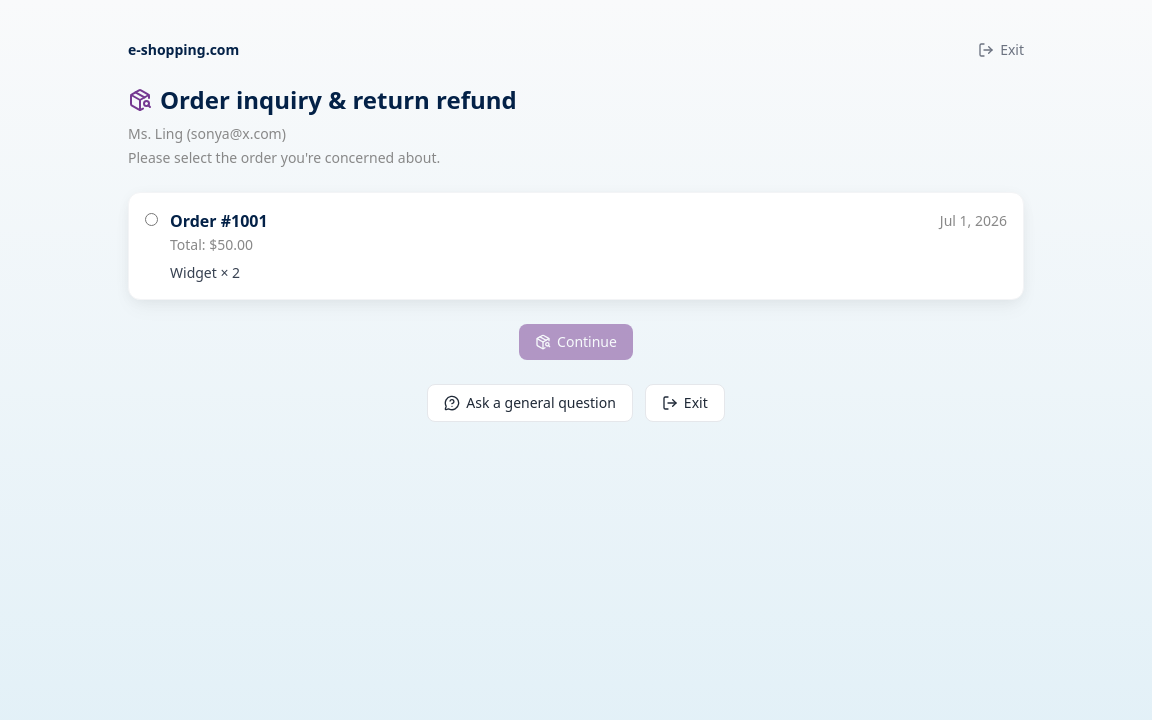
OrderInquiryPage › the order's refund request card (CSA-23) › shows no card and keeps the exchange/return button when the order has no request
Check: the text "Order #1001" is shown, box [170, 209, 268, 233]
Click the radio button at (152, 220), box [145, 213, 158, 226]
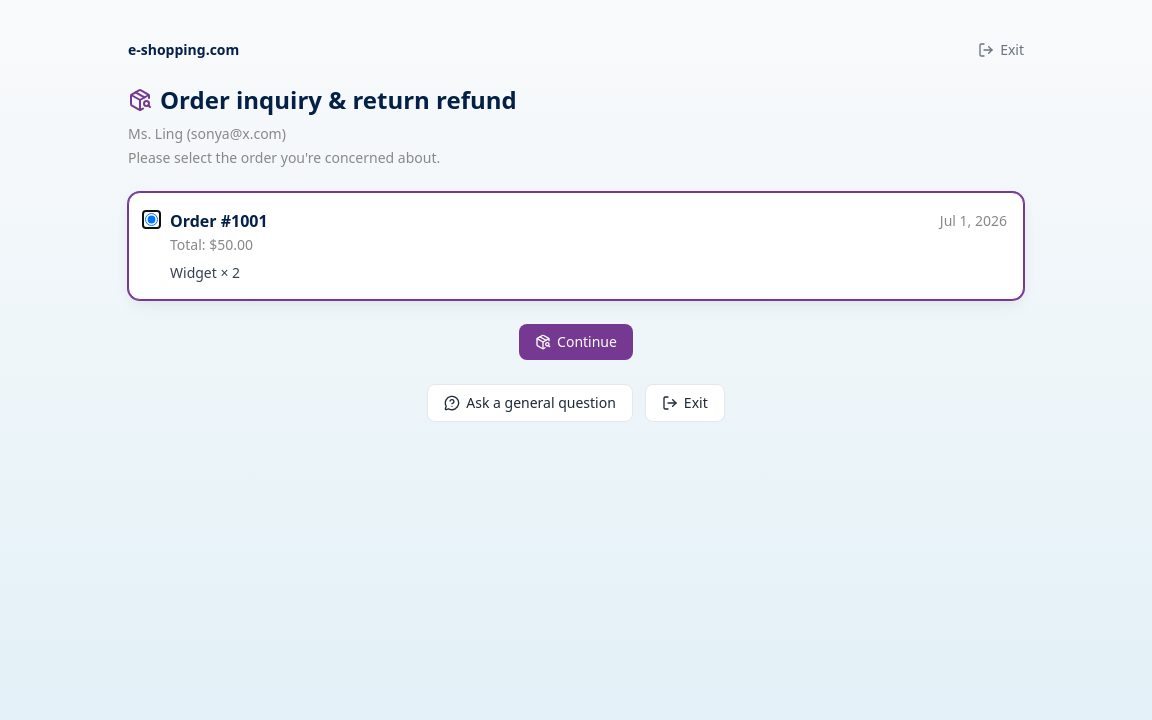
Click the button "Continue" at (576, 342), box [519, 324, 633, 360]
(page scrolled)
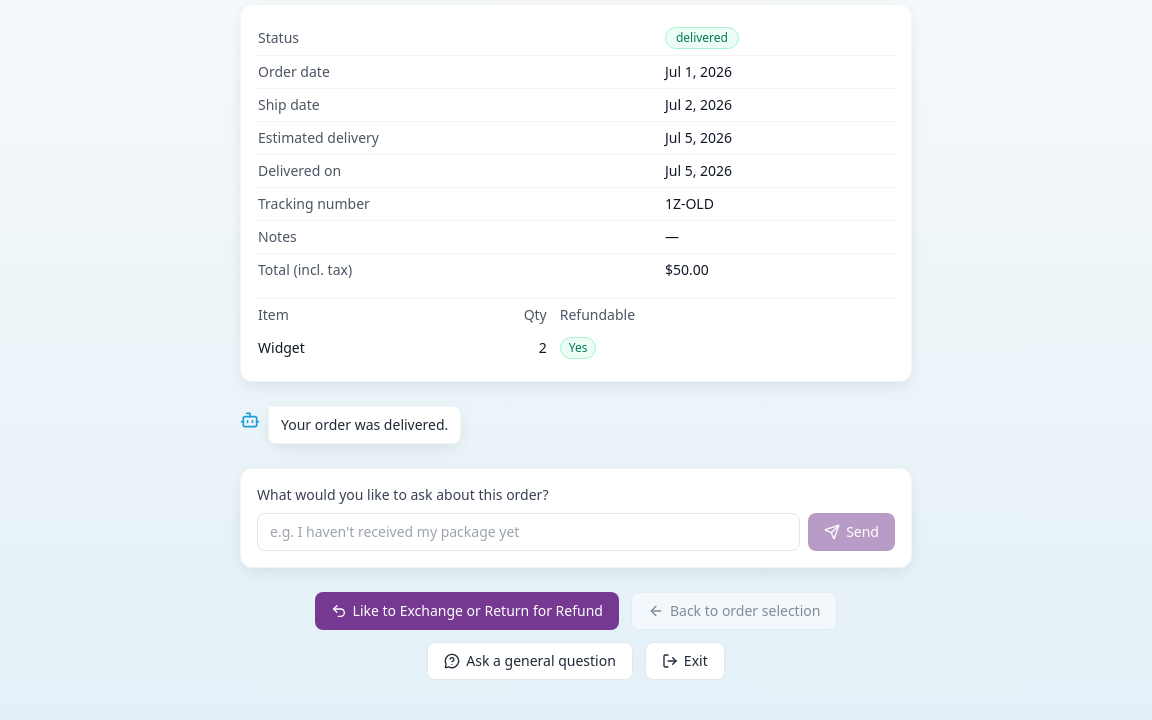
Check: the text "Your order was delivered." is shown, box [268, 406, 461, 444]
Check: the button "Like to Exchange or Return for Refund" is shown, box [315, 592, 619, 630]
